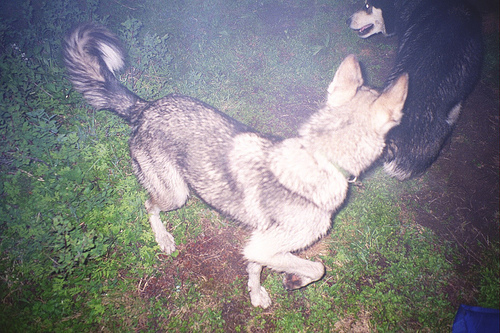dog: (62, 24, 409, 310)
